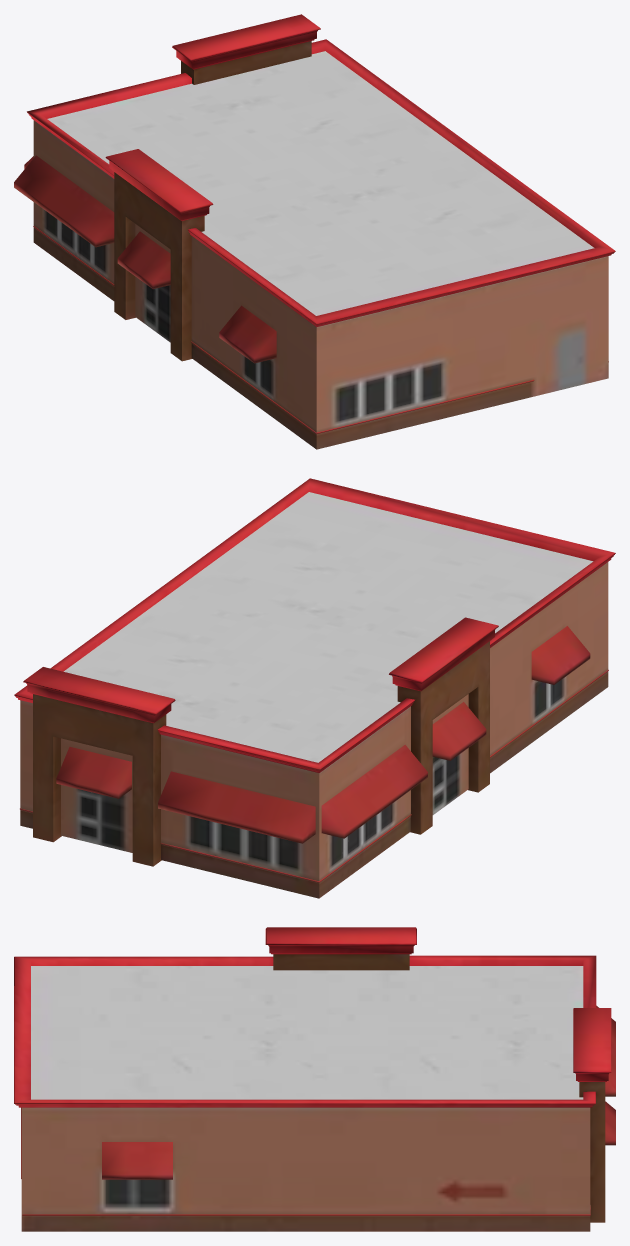
The model's file is burger-joint.lod1.glb.
The picture shows the model from 3 angles, top to bottom: view 1: azimuth 30°, elevation 25°; view 2: azimuth 150°, elevation 25°; view 3: azimuth 270°, elevation 25°; orthographic projection. The views are drawn at different scales.
Parts seen in each view (by area): view 1: Object_2; view 2: Object_2; view 3: Object_2.
Part boxes in pixels (x1=…): Object_2: x1=14, y1=14, x2=615, y2=449; Object_2: x1=14, y1=478, x2=615, y2=898; Object_2: x1=14, y1=927, x2=615, y2=1231.
Size of the model in its own units: 18.01 by 7.88 by 27.76.
1 material, 1 textured.
